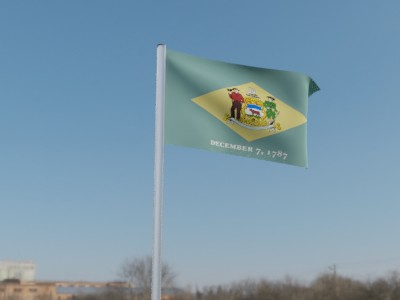Delaware flag: (166, 49, 324, 170)
